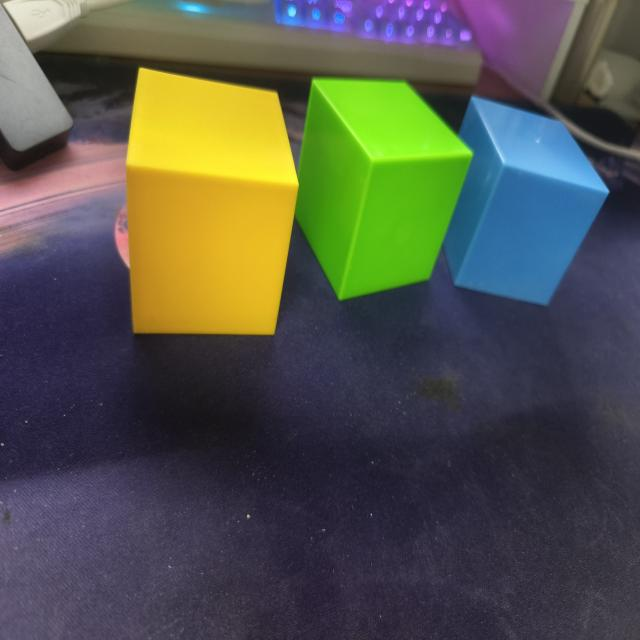blue: (444, 93, 610, 309)
green: (293, 77, 473, 303)
yellow: (122, 68, 300, 340)
